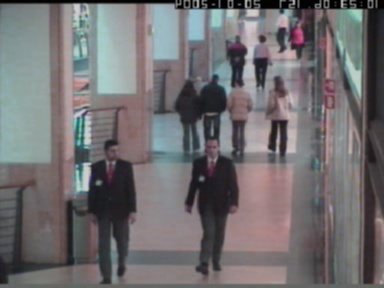person: (184, 137, 238, 275), (88, 139, 137, 284), (266, 75, 295, 156), (224, 79, 252, 155), (198, 76, 226, 150), (173, 79, 199, 153), (227, 35, 248, 88), (253, 35, 272, 88), (287, 19, 307, 60), (273, 9, 289, 53)
